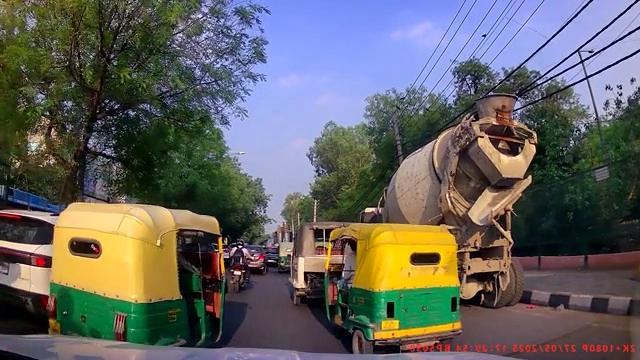motorcycle_with_helmet: (227, 238, 252, 293)
